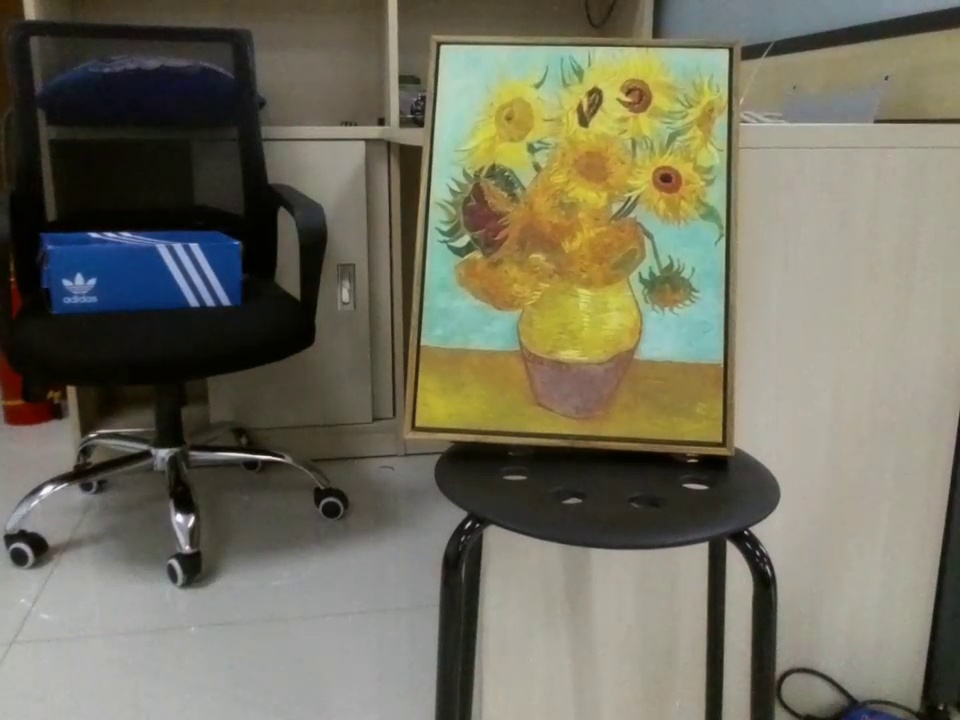painting: (415, 38, 749, 460)
